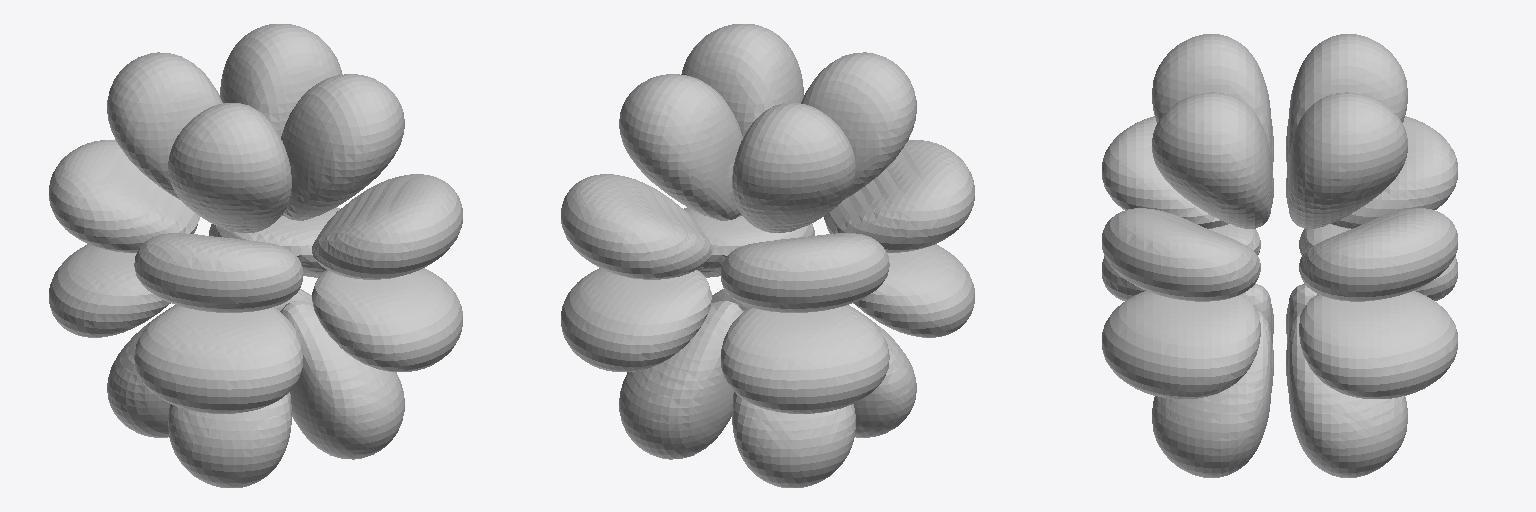
Rendered from orb_n=6_ l=5 _m=-2.obj.
3 renders of one model, left to right at view 1: azimuth 30°, elevation 25°; view 2: azimuth 150°, elevation 25°; view 3: azimuth 270°, elevation 25°, orthographic.
Parts seen in each view (by area): view 1: orb_n=6__l=5__m=-2; view 2: orb_n=6__l=5__m=-2; view 3: orb_n=6__l=5__m=-2.
Part boxes in pixels (x1,y1,x2,y2): orb_n=6__l=5__m=-2: (49,24,462,487); orb_n=6__l=5__m=-2: (561,24,974,487); orb_n=6__l=5__m=-2: (1102,34,1457,477).
Size of the model in its own units: 101 by 117 by 101.